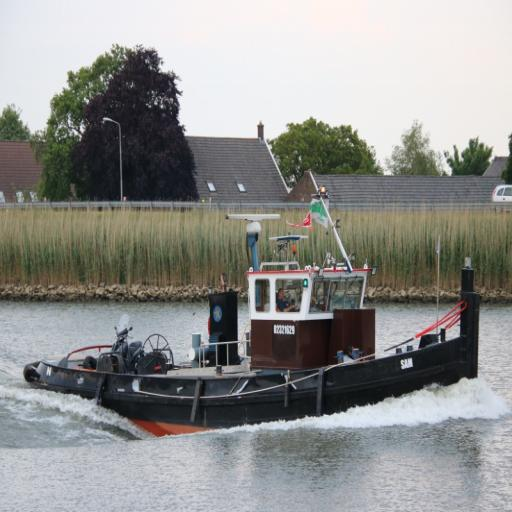tugboat: (21, 209, 487, 449)
